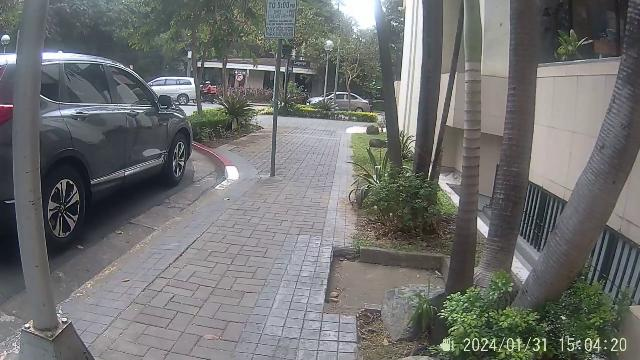car: (0, 52, 190, 224)
street_sign: (262, 1, 296, 178)
tree: (375, 0, 443, 228)
utility_post: (10, 0, 92, 360)
